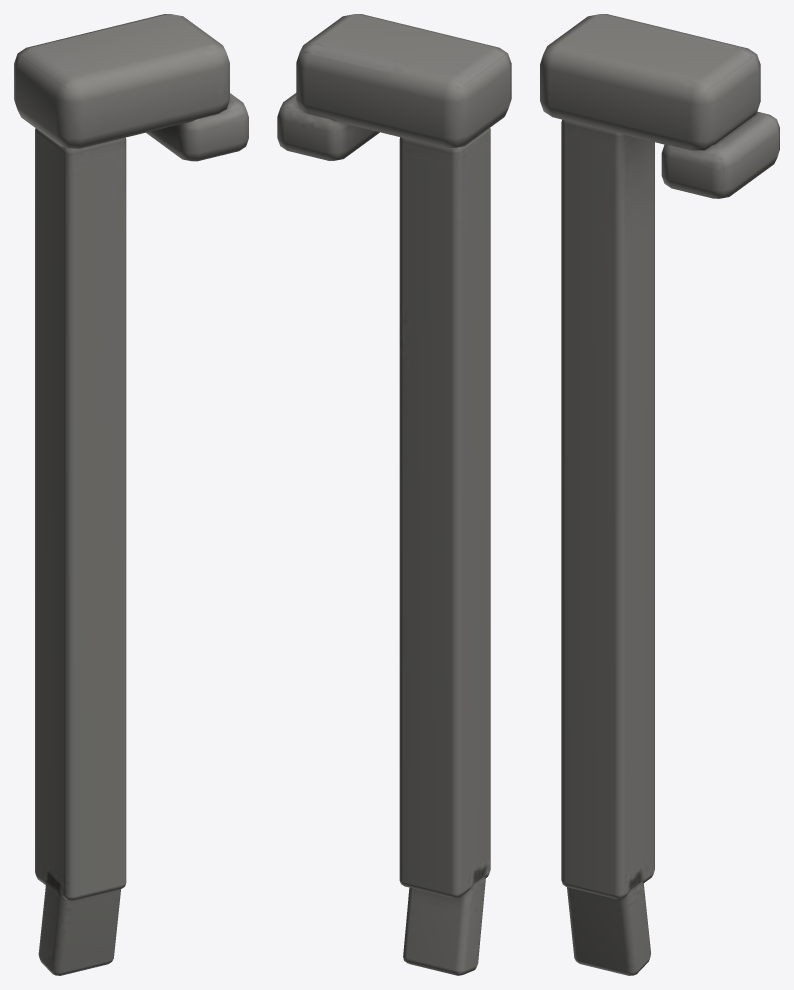
File: track_spike.glb
The picture shows the model from 3 angles, left to right: view 1: azimuth 30°, elevation 25°; view 2: azimuth 150°, elevation 25°; view 3: azimuth 330°, elevation 25°; orthographic projection. The views are drawn at different scales.
Parts seen in each view (by area): view 1: TrackSpike; view 2: TrackSpike; view 3: TrackSpike.
Boxes of the visible parts, x1,y1,x2,y2 form: TrackSpike: [14, 14, 248, 975]; TrackSpike: [277, 14, 511, 975]; TrackSpike: [540, 14, 779, 975].
Bounding box in the file's own units: 0.055 × 0.2533 × 0.03.
Materials: 1 (1 with a texture image).
